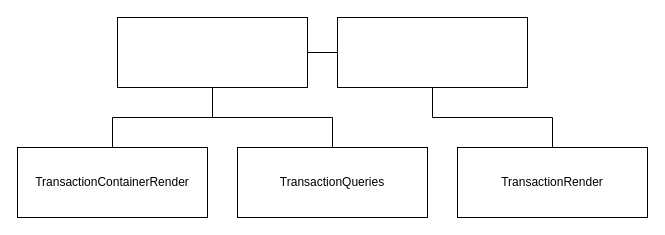
This 665x235 diagram has some shape labels left out. Each missing label, with the centre of its shape:
"Transaction" belongs at (432,52).
"TransactionContainer" belongs at (212,52).
